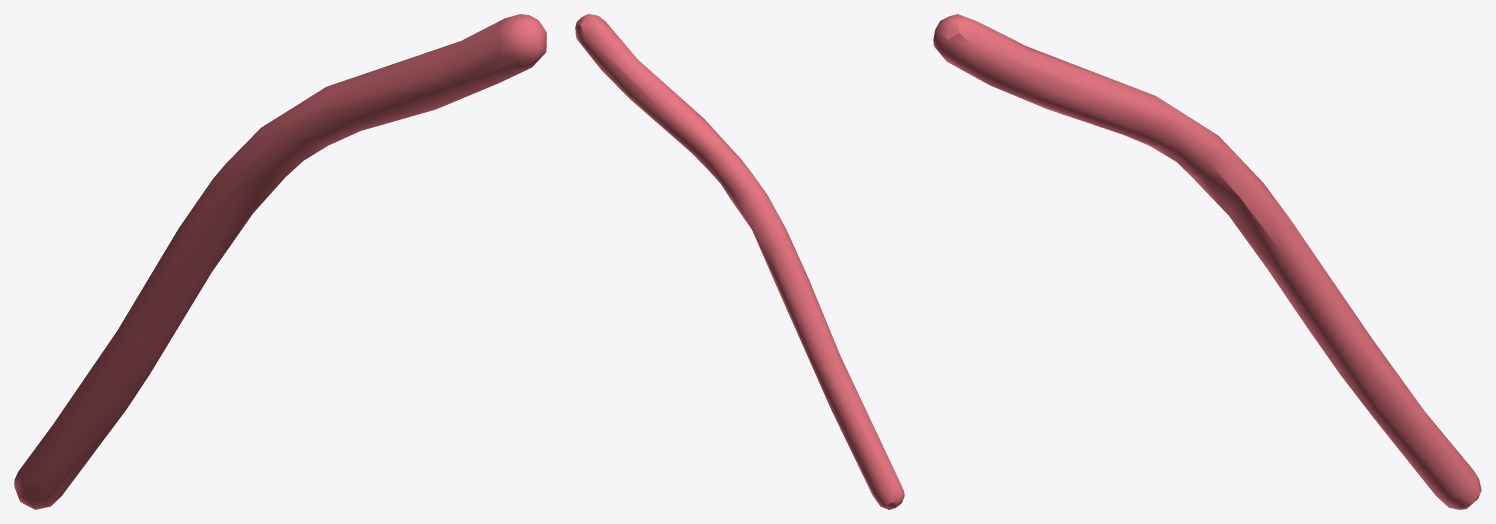
Rendered from fma14792_fj3433.glb.
The picture shows the model from 3 angles, left to right: view 1: azimuth 30°, elevation 25°; view 2: azimuth 210°, elevation 25°; view 3: azimuth 270°, elevation 25°; orthographic projection. The views are drawn at different scales.
Visible parts, largest first — view 1: FMA14792_FJ3433; view 2: FMA14792_FJ3433; view 3: FMA14792_FJ3433.
Part boxes in pixels (<box>): FMA14792_FJ3433: <box>14,14,546,509</box>; FMA14792_FJ3433: <box>575,14,904,509</box>; FMA14792_FJ3433: <box>933,14,1481,509</box>.
Size of the model in its own units: 0.00386 by 0.00961 by 0.0082.
